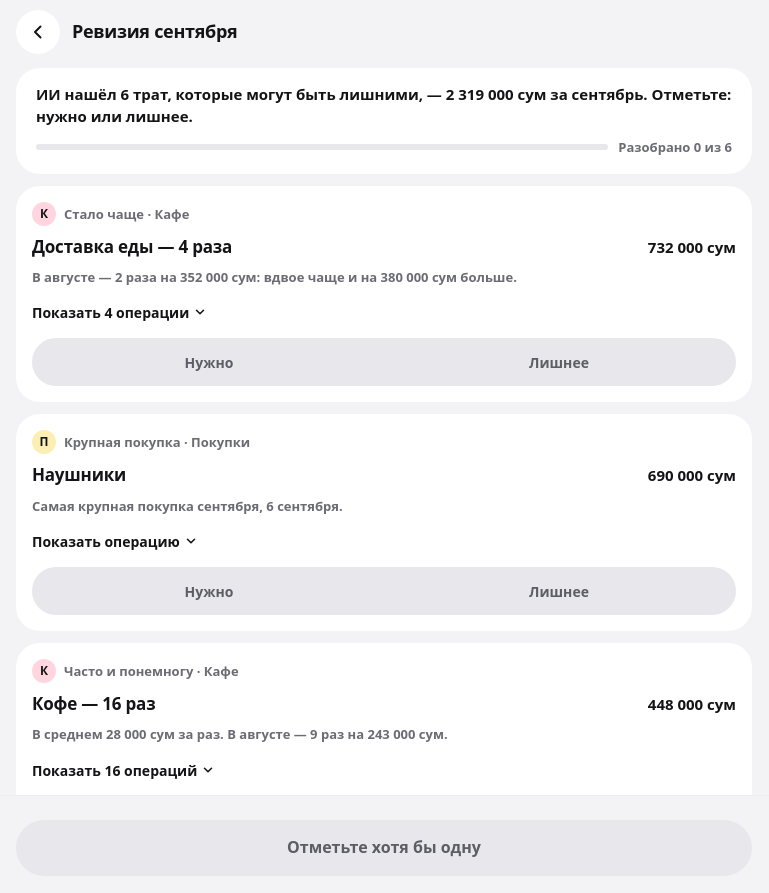
Scenario: marking («Ревизия · разобрано 2 из 6») › a second press takes the mark back
Click the button "Нужно" below "Доставка еды — 4 раза".
click(209, 362)  # box [34,340,384,384]
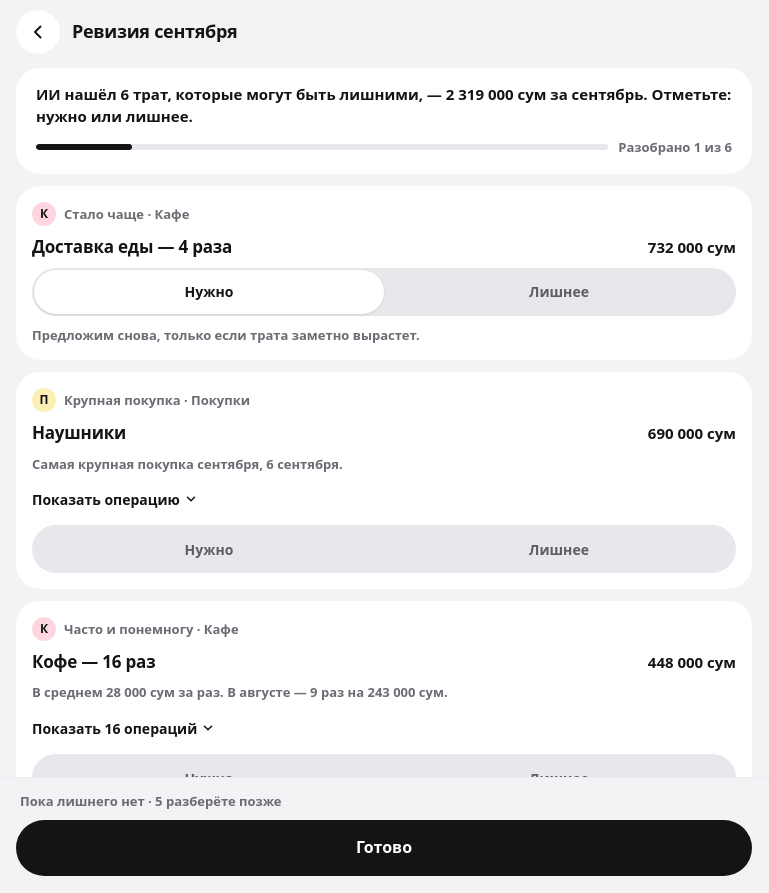
expect the element named "Стало чаще: Доставка еды — 4 раза, 732 000 сум. Отмечено: ну" shows "Предложим снова, только если трата заметно вырастет.": met, box [32,326,420,344]
Click the button "Нужно" below "Доставка еды — 4 раза".
click(209, 292)  # box [34,270,384,314]
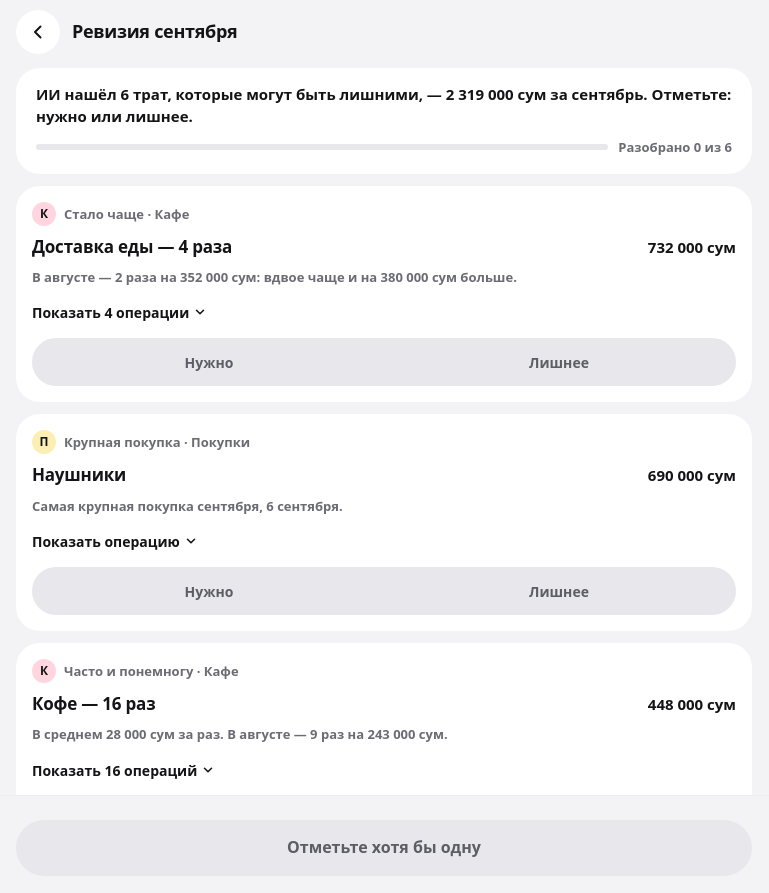
expect the element named "Стало чаще: Доставка еды — 4 раза, 732 000 сум" shows "В августе — 2": met, box [32,268,517,286]
